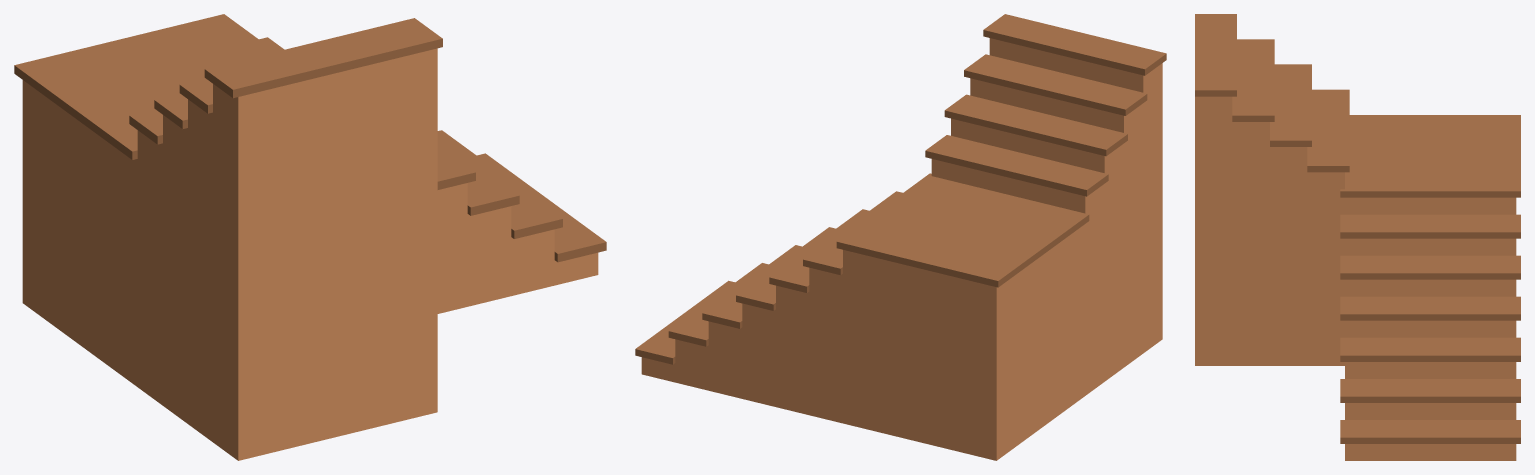
The model's file is Ladder-L.glb.
The picture shows the model from 3 angles, left to right: view 1: azimuth 30°, elevation 25°; view 2: azimuth 150°, elevation 25°; view 3: azimuth 270°, elevation 25°; orthographic projection. The views are drawn at different scales.
Parts seen in each view (by area): view 1: stairsCorner; view 2: stairsCorner; view 3: stairsCorner.
Part boxes in pixels (<box>): stairsCorner: <box>14,14,606,460</box>; stairsCorner: <box>635,14,1166,460</box>; stairsCorner: <box>1195,14,1520,460</box>.
Size of the model in its own units: 1.77 by 1.34 by 1.43.
